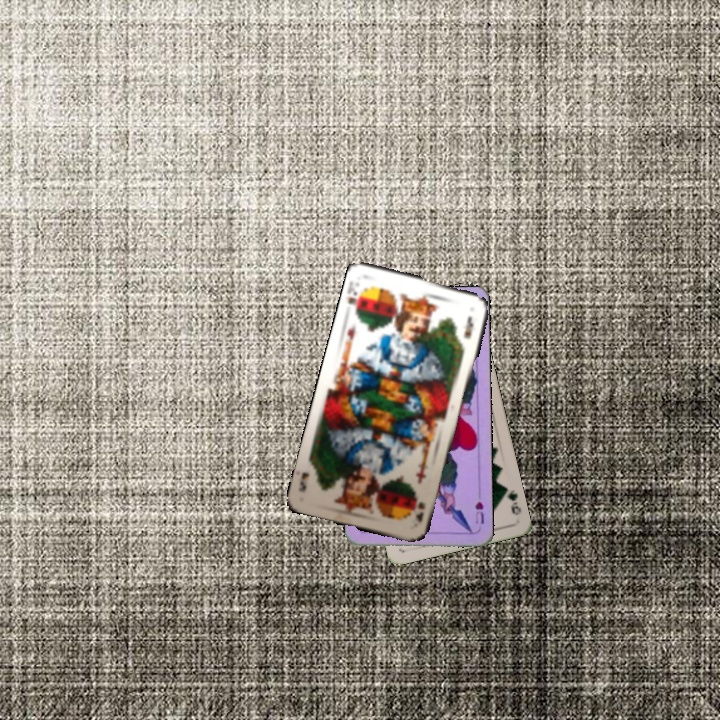G9: (498, 482, 524, 518)
HU: (471, 498, 486, 526)
SK: (343, 286, 364, 316), (412, 498, 427, 526)
